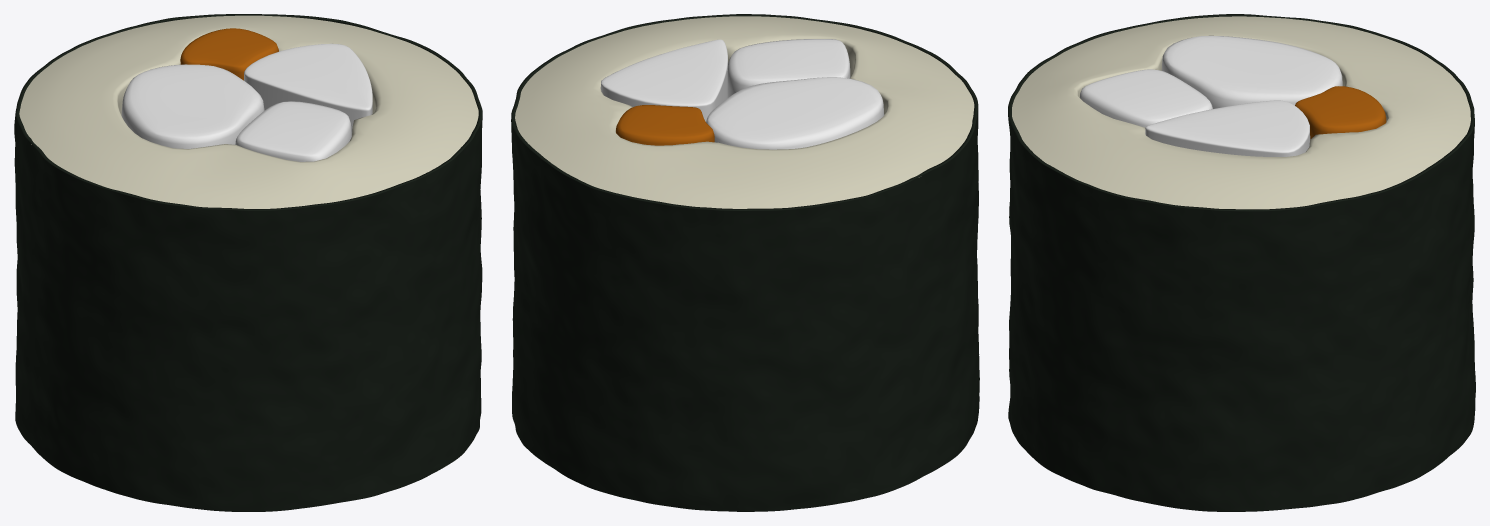
Rendered from futomaki.fbx.
The picture shows the model from 3 angles, left to right: view 1: azimuth 30°, elevation 25°; view 2: azimuth 150°, elevation 25°; view 3: azimuth 270°, elevation 25°; orthographic projection.
Parts seen in each view (by area): view 1: Seaweed 4, Rice 7, Salmon 1, Cucumber 7, Avocado 5, Carrot 7; view 2: Seaweed 4, Rice 7, Salmon 1, Cucumber 7, Avocado 5, Carrot 7; view 3: Seaweed 4, Rice 7, Salmon 1, Cucumber 7, Avocado 5, Carrot 7.
Boxes of the visible parts, x1=… form: Seaweed 4: x1=14, y1=14, x2=482, y2=511; Rice 7: x1=19, y1=15, x2=478, y2=208; Salmon 1: x1=121, y1=64, x2=264, y2=148; Cucumber 7: x1=244, y1=43, x2=372, y2=136; Avocado 5: x1=235, y1=101, x2=351, y2=161; Carrot 7: x1=180, y1=28, x2=278, y2=80; Seaweed 4: x1=511, y1=14, x2=979, y2=511; Rice 7: x1=515, y1=16, x2=974, y2=208; Salmon 1: x1=706, y1=77, x2=884, y2=149; Cucumber 7: x1=600, y1=39, x2=727, y2=121; Avocado 5: x1=727, y1=39, x2=850, y2=97; Carrot 7: x1=616, y1=105, x2=714, y2=145; Seaweed 4: x1=1008, y1=14, x2=1475, y2=511; Rice 7: x1=1012, y1=16, x2=1470, y2=209; Salmon 1: x1=1162, y1=35, x2=1342, y2=108; Cucumber 7: x1=1145, y1=100, x2=1310, y2=156; Avocado 5: x1=1079, y1=69, x2=1212, y2=127; Carrot 7: x1=1295, y1=86, x2=1386, y2=138.
Size of the model in its own units: 113 by 86.4 by 113.
